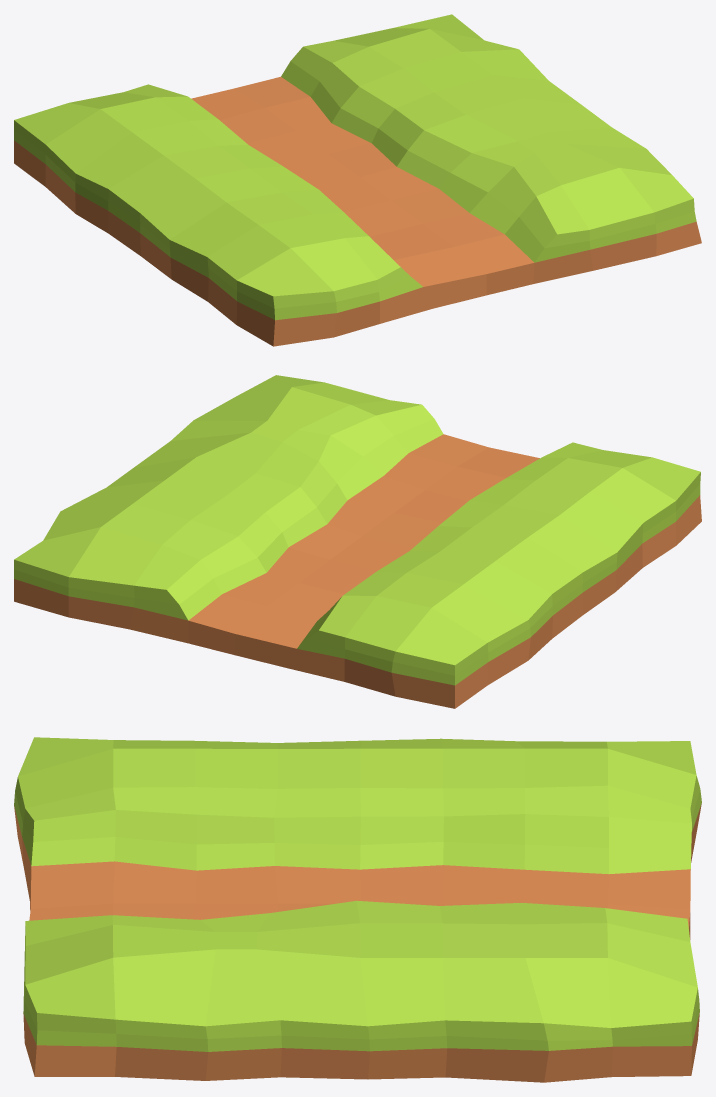
Rendered from Forest_Ground1.fbx.
The picture shows the model from 3 angles, top to bottom: view 1: azimuth 30°, elevation 25°; view 2: azimuth 150°, elevation 25°; view 3: azimuth 270°, elevation 25°; orthographic projection. The views are drawn at different scales.
Parts seen in each view (by area): view 1: Forest_Ground; view 2: Forest_Ground; view 3: Forest_Ground.
Part boxes in pixels (box(x1,y1,x2,y2)): Forest_Ground: box(14, 14, 701, 346); Forest_Ground: box(14, 375, 701, 708); Forest_Ground: box(14, 737, 701, 1082).
Size of the model in its own units: 4183 by 4172 by 576.
